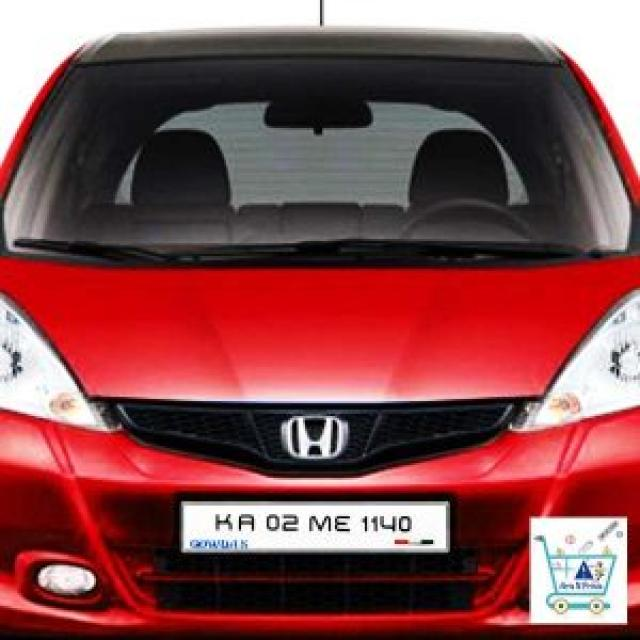plate: (178, 498, 454, 554)
